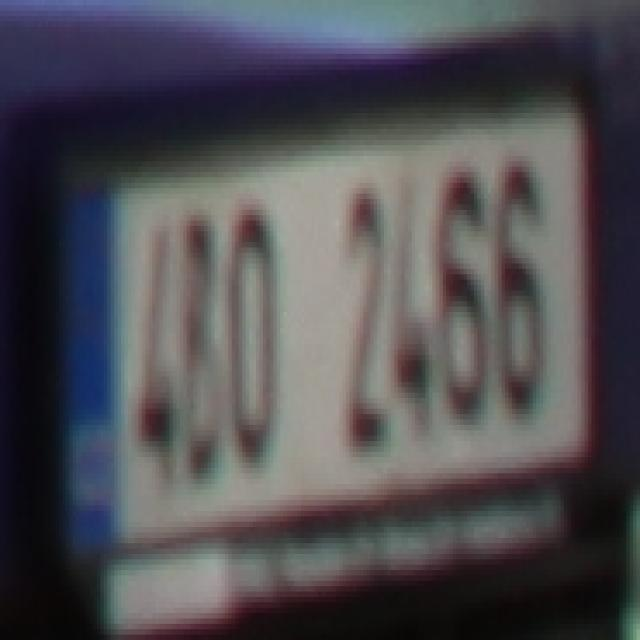0: (225, 193, 277, 462)
2: (332, 183, 391, 452)
4: (132, 220, 184, 490), (384, 172, 432, 441)
6: (488, 156, 550, 425), (432, 161, 492, 436)
B: (176, 193, 228, 490)
